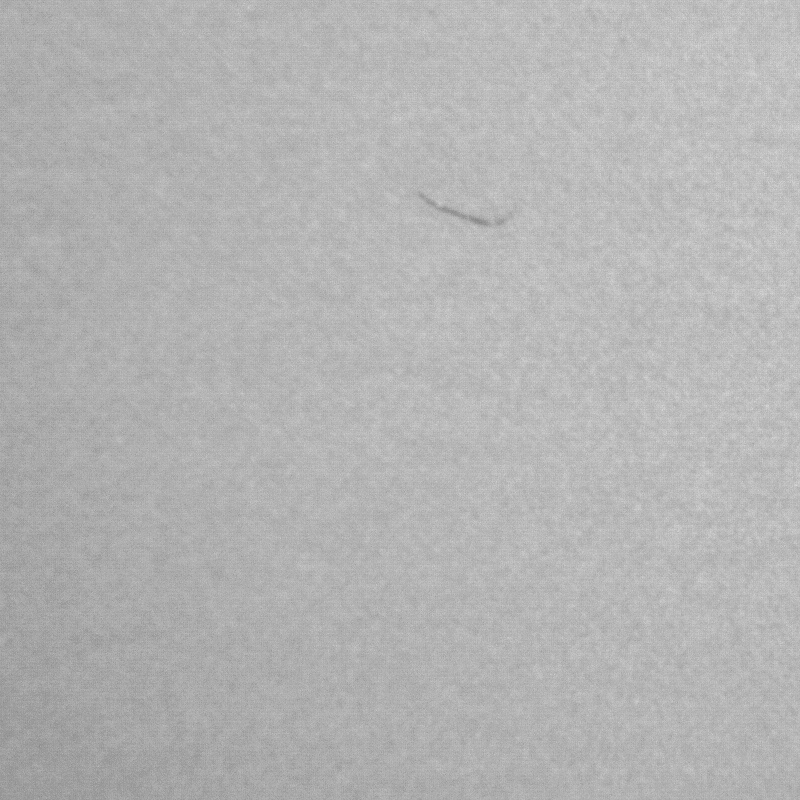defect: (419, 190, 519, 226)
